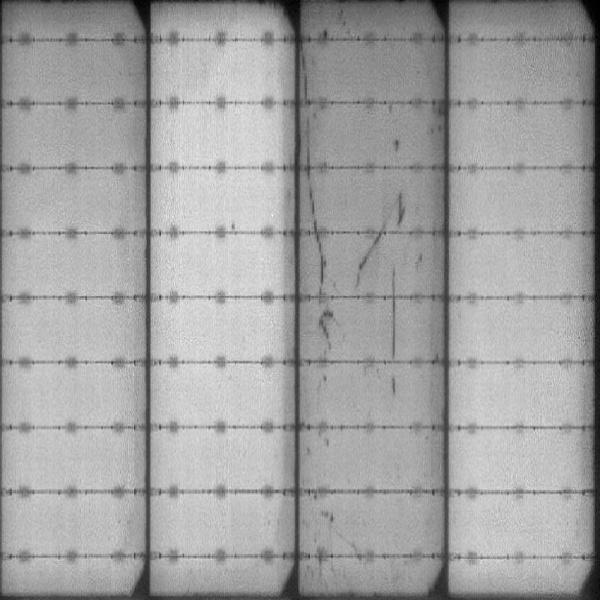scratch: (350, 191, 407, 275), (311, 235, 335, 292), (302, 173, 326, 228), (387, 270, 397, 394), (302, 112, 321, 168), (316, 306, 339, 348), (300, 45, 314, 99)
